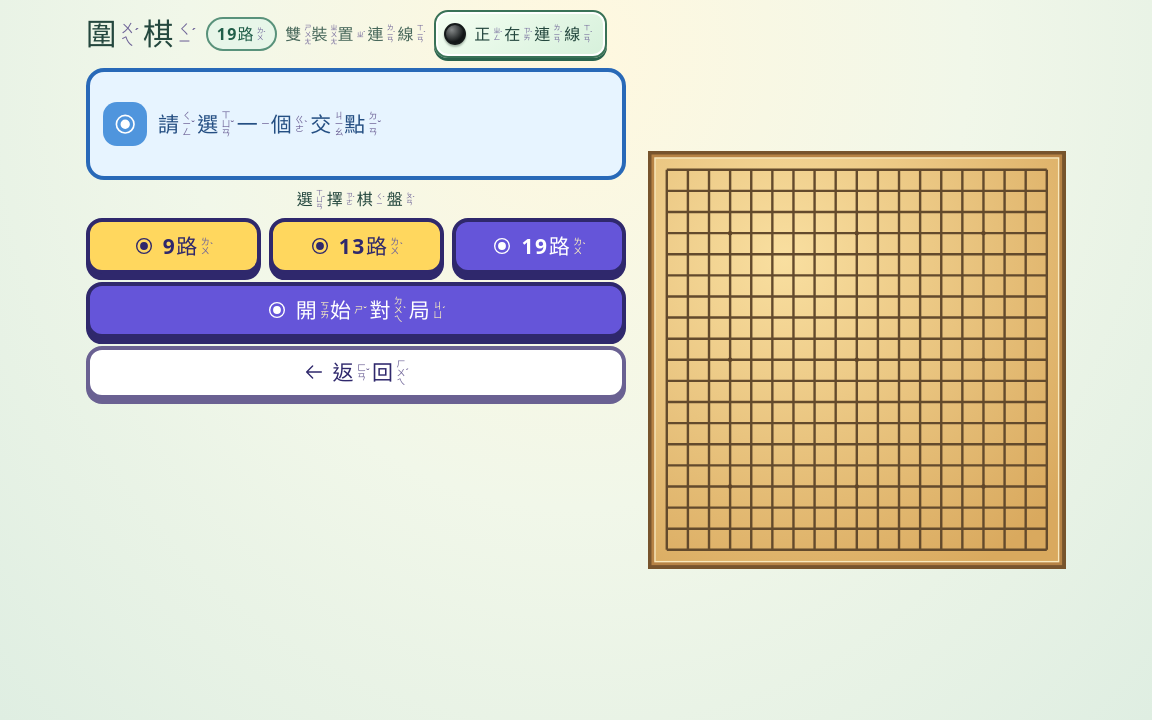
Test: 主入口遊戲選擇 › 圍棋熟人邀請固定 19 路，不能以其他路數加入
Check: the button named "9路" is disabled, box 86,218 -> 261,274
Click the button named "開始對局".
click(356, 310)  # box 86,282 -> 626,338
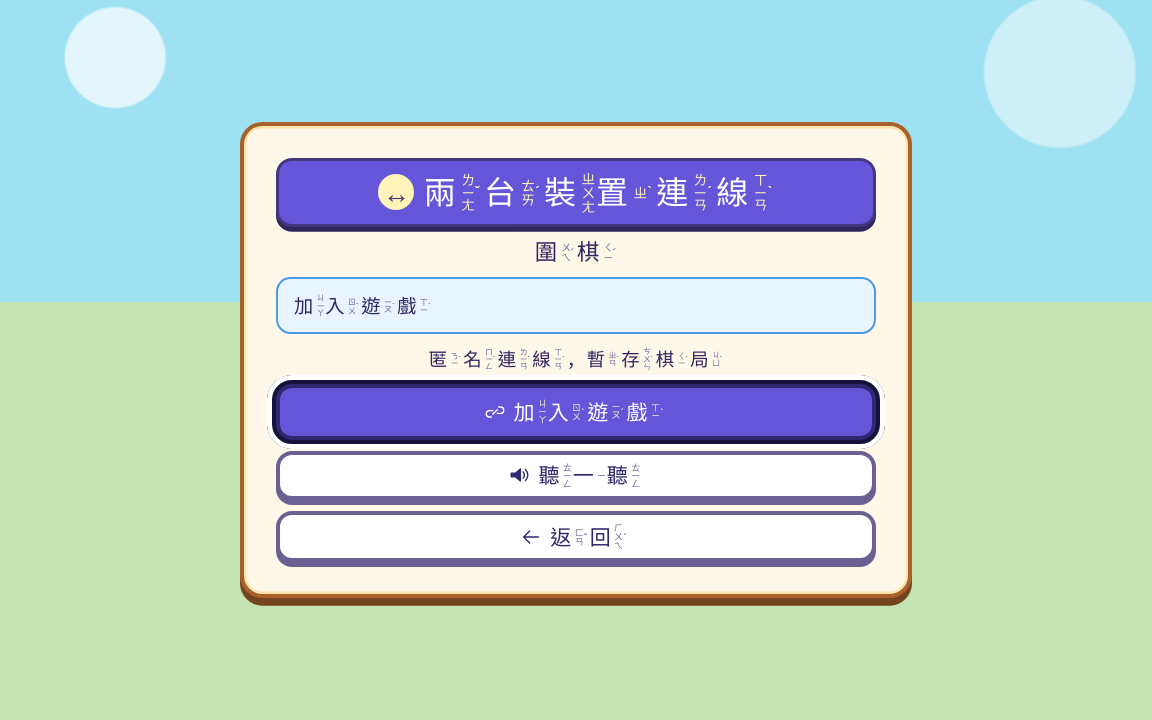
Check: the button named "加入遊戲" is shown, box 276,384 -> 876,440
